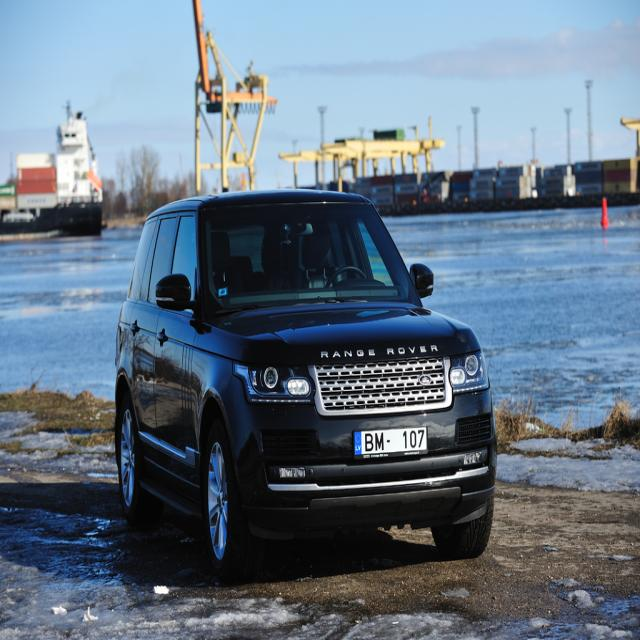car: (106, 181, 498, 571)
